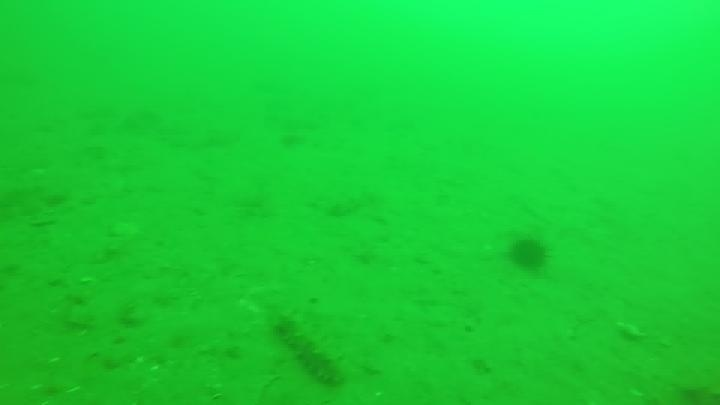echinus: (507, 235, 551, 273)
holothurian: (274, 312, 348, 389)
